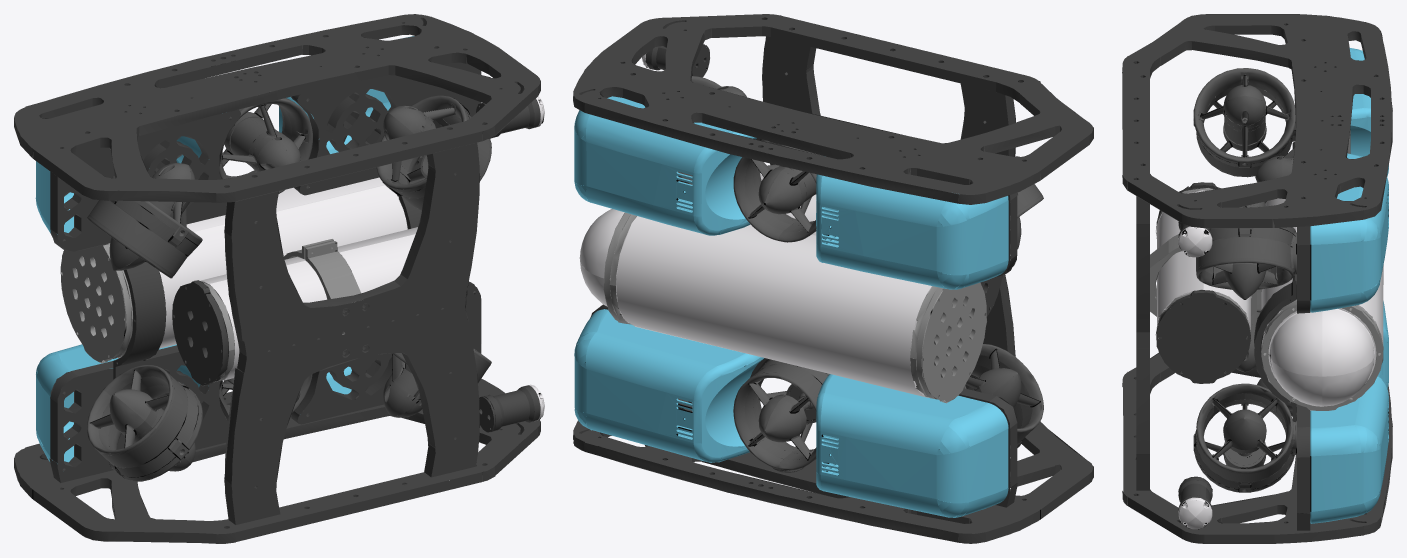
File: bluerov2.obj
3 views of the same model, side by side, from view 1: azimuth 30°, elevation 25°; view 2: azimuth 150°, elevation 25°; view 3: azimuth 270°, elevation 25° (orthographic). The views are drawn at different scales.
Visible parts, largest first — view 1: Tank_4__ID610; view 2: Tank_4__ID610; view 3: Tank_4__ID610.
Boxes of the visible parts, x1,y1,x2,y2 form: Tank_4__ID610: (14,14,544,543); Tank_4__ID610: (573,14,1093,543); Tank_4__ID610: (1122,14,1392,543).
Bounding box in the file's own units: 0.4576 × 0.338 × 0.2552.
Materials: 1 (1 with a texture image).
